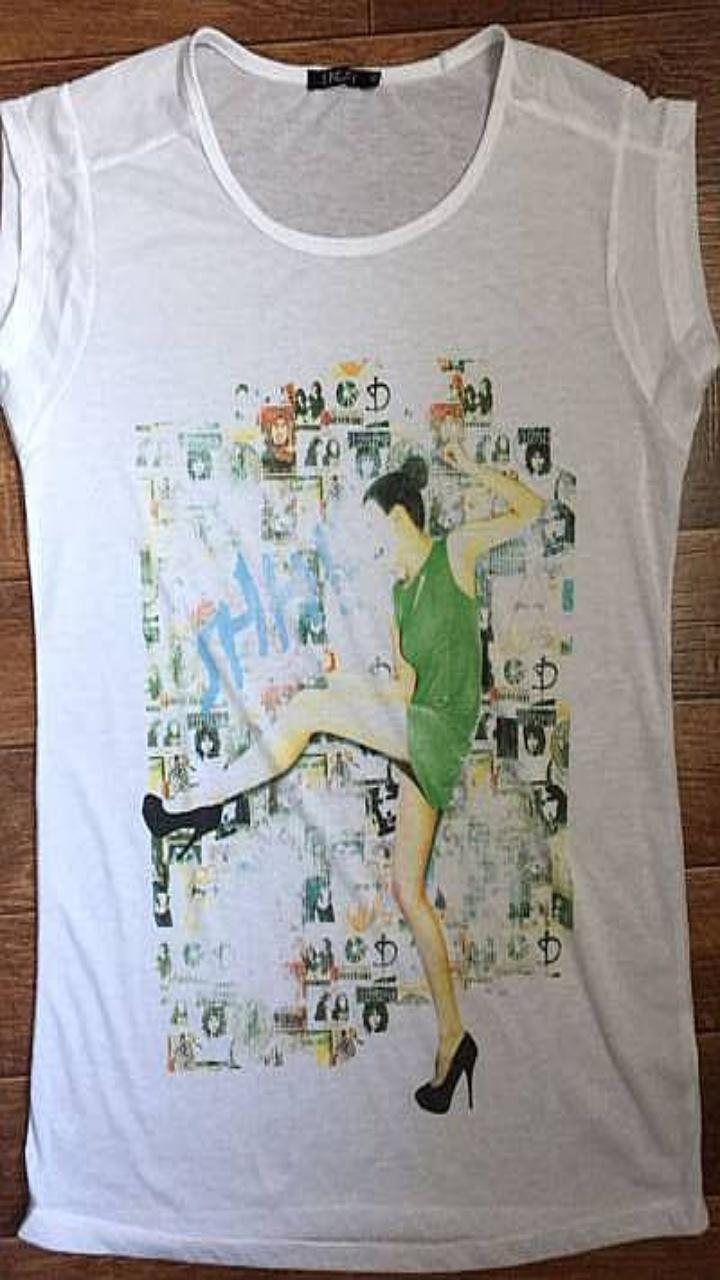T-Shirt: (0, 23, 719, 1270)
